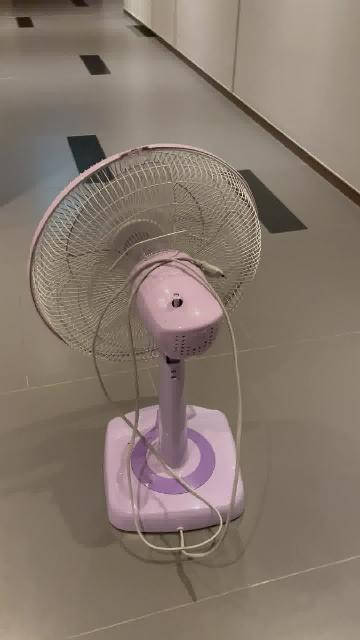Fan: (28, 145, 262, 537)
